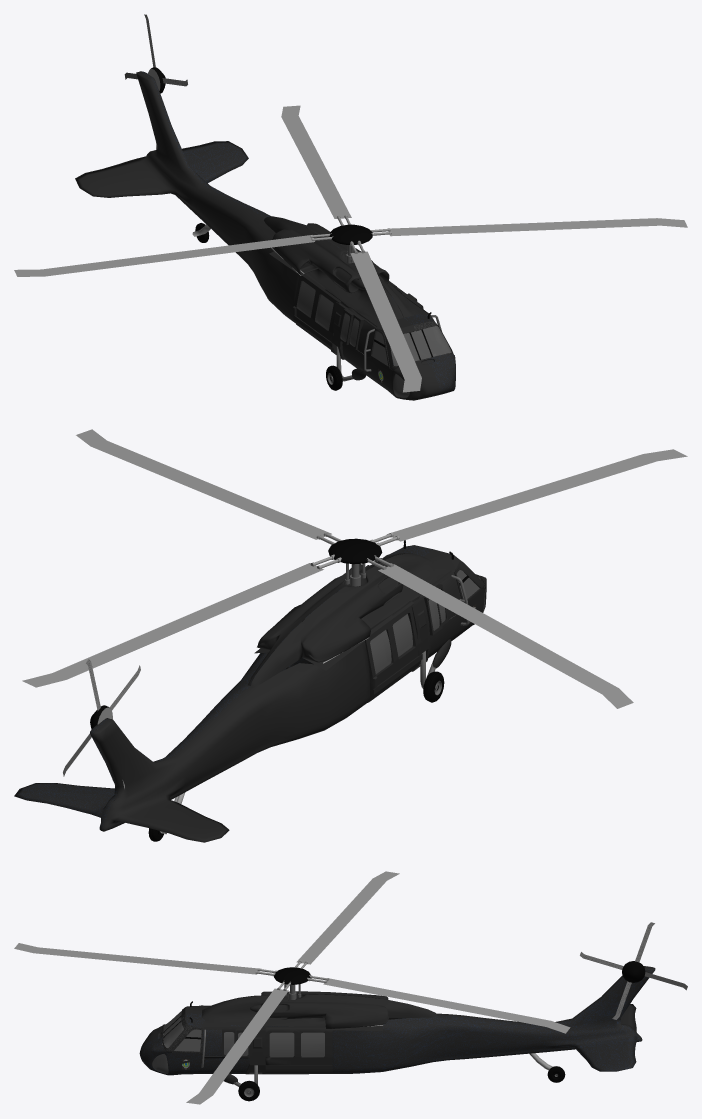
The model's file is blackhawk.dae.
3 views of the same model, one above another, from view 1: azimuth 30°, elevation 25°; view 2: azimuth 150°, elevation 25°; view 3: azimuth 270°, elevation 25° (orthographic). The views are drawn at different scales.
Parts seen in each view (by area): view 1: QuadPatc24, QuadPatc23, QuadPatc25, Box22, Box21, Box23, Box24, QuadPatch4, QuadPatc14, QuadPatch2, Line05; view 2: QuadPatc24, QuadPatc23, QuadPatc25, Box23, Box24, Box22, Box21, QuadPatch4, QuadPatc14, Line05, QuadPatc20, QuadPatc19; view 3: QuadPatc25, QuadPatc14, QuadPatc13, Box24, Box21, Box22, Box23, QuadPatc24, QuadPatch6, QuadPatch3, QuadPatch5, QuadPatc23 (+4 smaller).
Boxes of the visible parts, left/top/right/bottom form: QuadPatc24: left=75, top=72, right=439, bottom=400; QuadPatc23: left=264, top=216, right=403, bottom=328; QuadPatc25: left=139, top=71, right=455, bottom=395; Box22: left=350, top=251, right=421, bottom=392; Box21: left=388, top=218, right=687, bottom=236; Box23: left=14, top=235, right=314, bottom=276; Box24: left=281, top=105, right=351, bottom=218; QuadPatch4: left=293, top=273, right=342, bottom=353; QuadPatc14: left=272, top=216, right=430, bottom=317; QuadPatch2: left=415, top=326, right=451, bottom=358; Line05: left=329, top=224, right=372, bottom=244; QuadPatc24: left=93, top=549, right=486, bottom=842; QuadPatc23: left=251, top=553, right=454, bottom=686; QuadPatc25: left=14, top=545, right=433, bottom=831; Box23: left=378, top=564, right=633, bottom=708; Box24: left=22, top=563, right=323, bottom=687; Box22: left=386, top=449, right=687, bottom=541; Box21: left=76, top=429, right=331, bottom=539; QuadPatch4: left=365, top=601, right=422, bottom=702; QuadPatc14: left=248, top=553, right=413, bottom=685; Line05: left=328, top=538, right=382, bottom=564; QuadPatc20: left=411, top=597, right=430, bottom=671; QuadPatc19: left=370, top=630, right=391, bottom=674; QuadPatc25: left=139, top=967, right=655, bottom=1075; QuadPatc14: left=202, top=994, right=437, bottom=1030; QuadPatc13: left=265, top=1026, right=332, bottom=1073; Box24: left=323, top=978, right=570, bottom=1033; Box21: left=186, top=988, right=288, bottom=1104; Box22: left=14, top=943, right=261, bottom=974; Box23: left=296, top=871, right=399, bottom=964; QuadPatc24: left=140, top=966, right=655, bottom=1050; QuadPatch6: left=245, top=1029, right=265, bottom=1074; QuadPatch3: left=269, top=1032, right=294, bottom=1056; QuadPatch5: left=301, top=1032, right=324, bottom=1056; QuadPatc23: left=202, top=991, right=436, bottom=1013.
Bounding box in the file's own units: 305 × 372 × 101.
7 materials, 1 textured.
